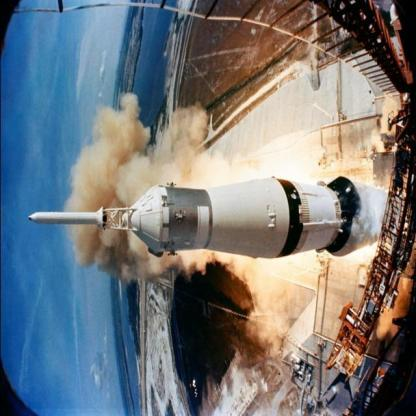MIL_TBM: (19, 208, 108, 224)
